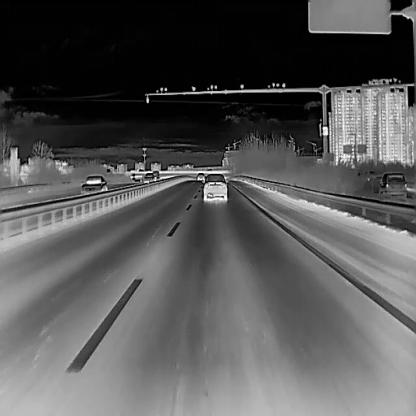car: (378, 172, 407, 198), (202, 173, 228, 201), (80, 174, 107, 194), (143, 172, 155, 182), (152, 170, 160, 180), (196, 172, 204, 180)
